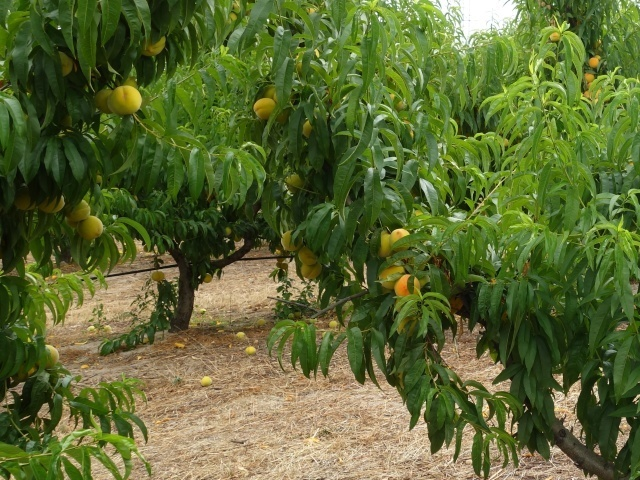peach: (104, 83, 147, 118), (374, 258, 409, 292), (391, 274, 424, 306), (135, 29, 171, 58), (369, 224, 397, 259), (75, 214, 107, 244), (88, 84, 118, 114), (34, 343, 64, 370), (249, 96, 280, 122), (276, 228, 307, 254), (386, 227, 415, 254), (63, 198, 93, 224), (293, 242, 321, 269), (295, 260, 322, 284)
